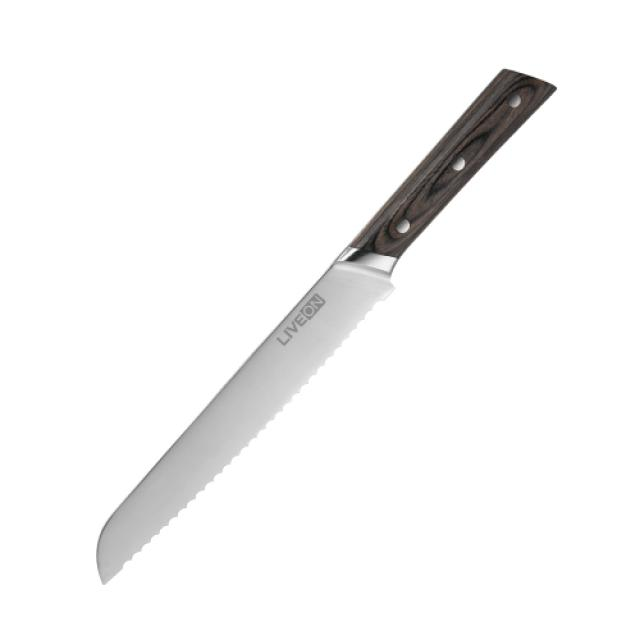Knife: (97, 69, 554, 582)
